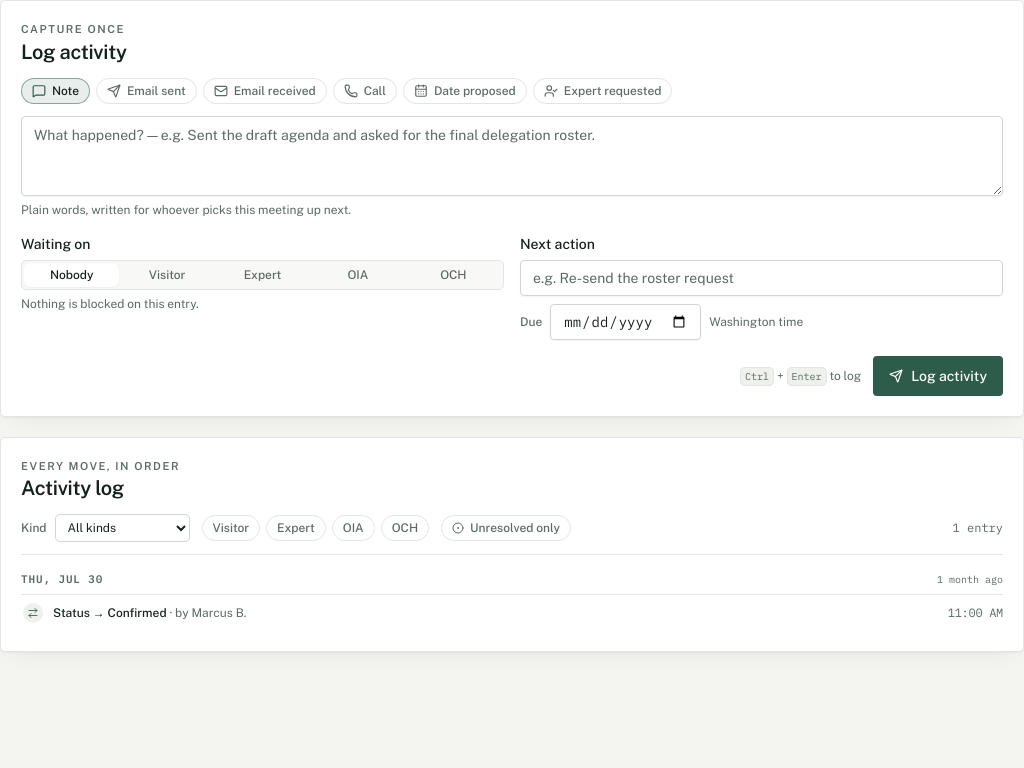
Test: ActivityComposer › starts on Note and lets a kind chip take over
Expected: the radio button labelled "Note" is checked, top-left (21, 78), bottom-right (90, 104)
Click the radio button labelled "Call" at (365, 90), box top-left (333, 78), bottom-right (397, 104)
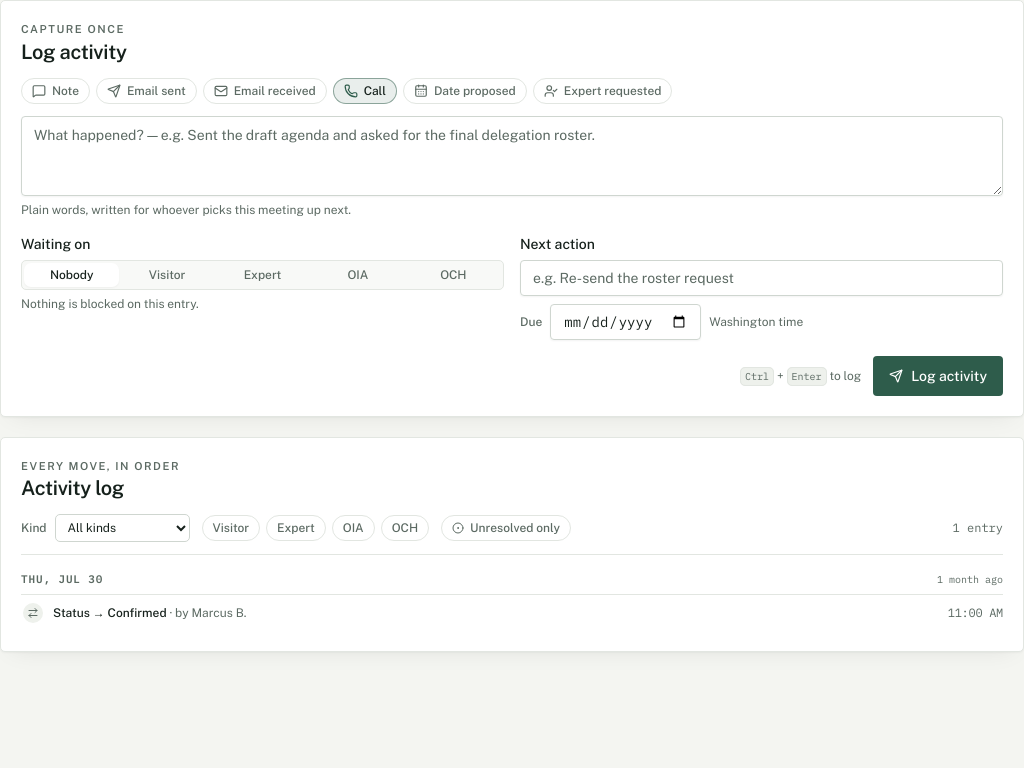
Now the radio button labelled "Call" is checked, box top-left (333, 78), bottom-right (397, 104)
Now the radio button labelled "Note" is not checked, box top-left (21, 78), bottom-right (90, 104)
